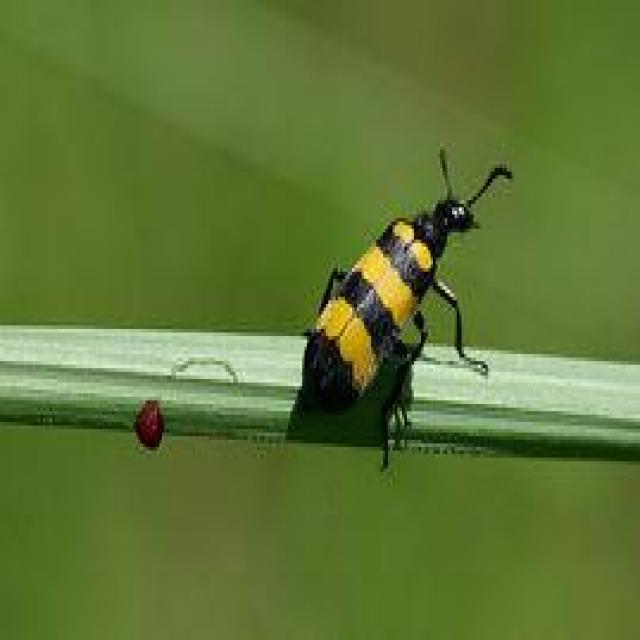BlisterBeetle-Adult-: (294, 130, 523, 483)
